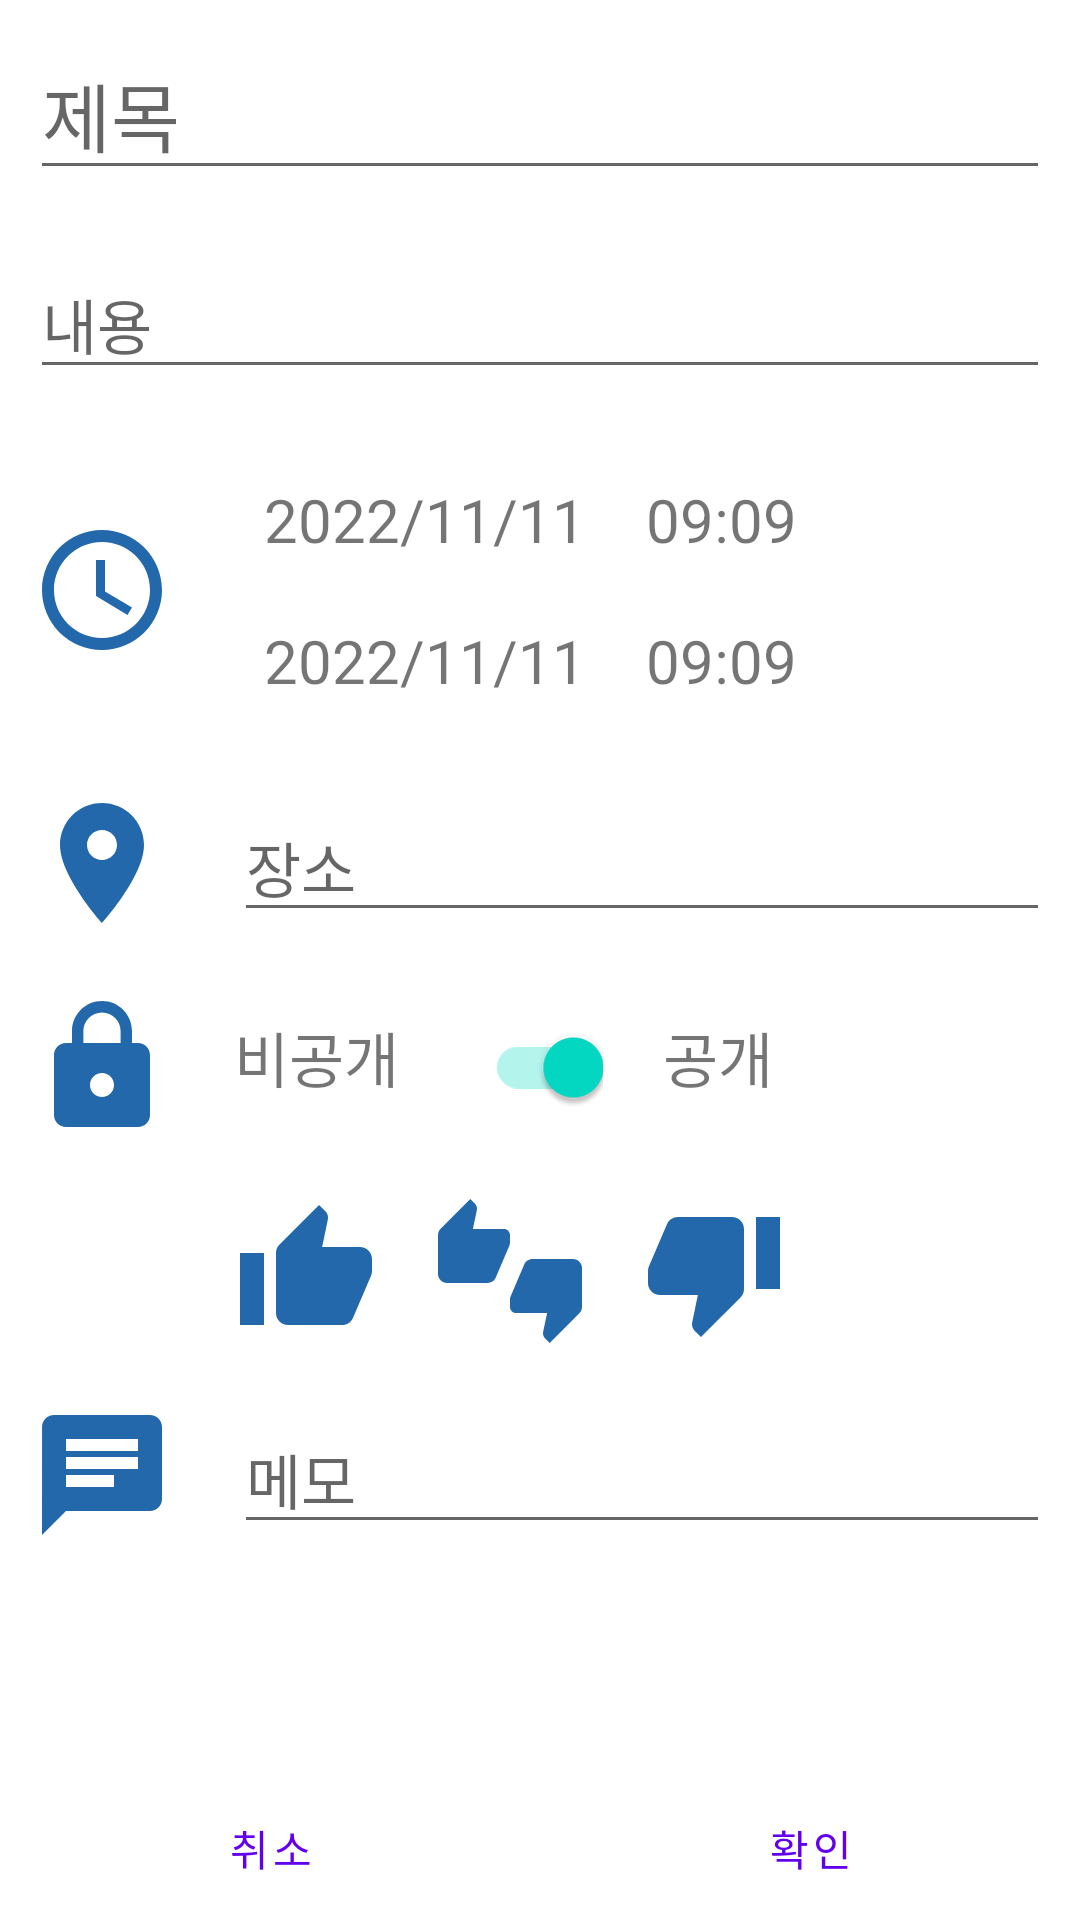

Where to tap for icons on this 1080x1920 app screen, as point (x, y):
access time: point (102, 590)
chat: point (102, 1475)
lock: point (102, 1064)
place: point (102, 863)
thumb down: point (714, 1277)
thumb up: point (306, 1265)
thumbs up down: point (510, 1271)
